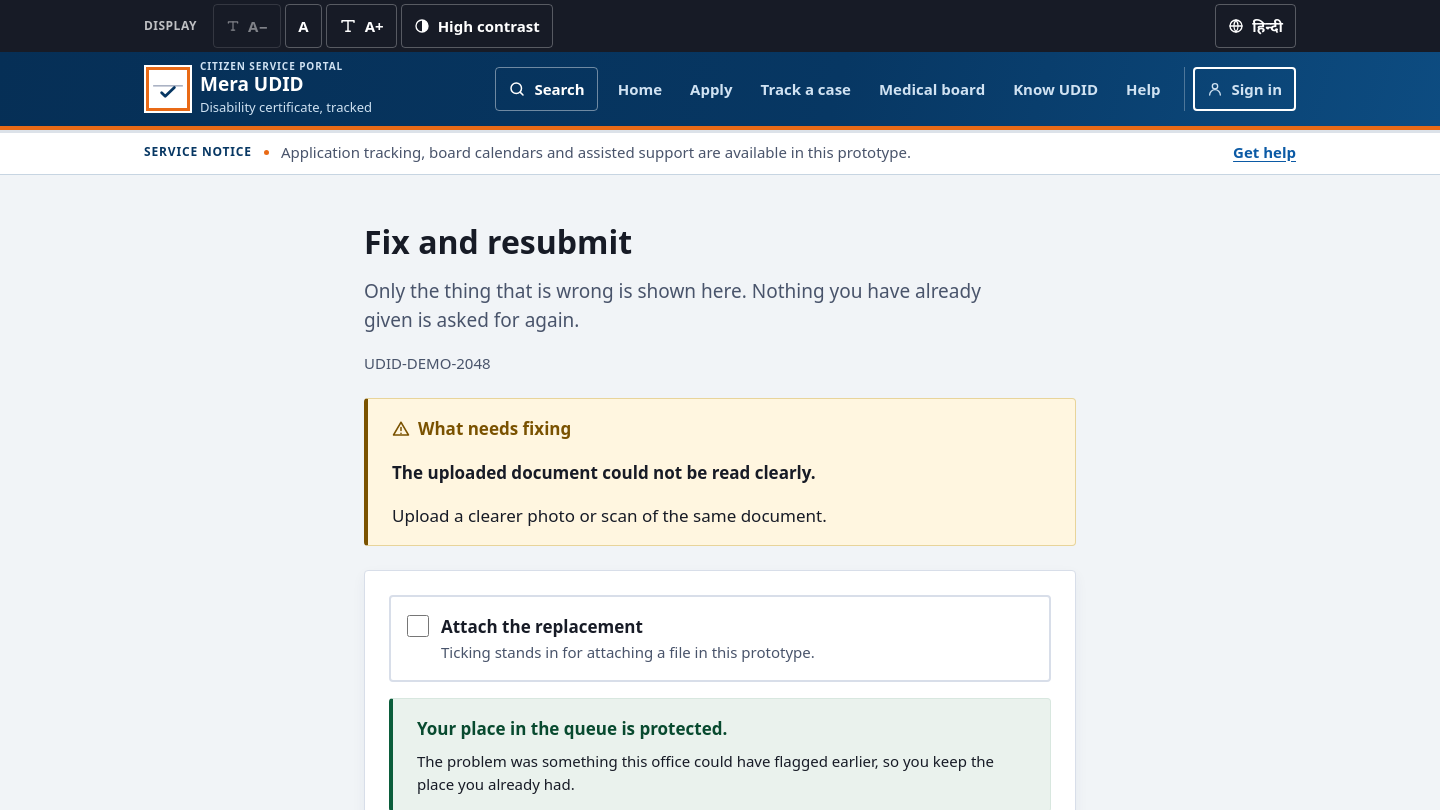
Scenario: fix and resubmit › sends the case back to the desk and keeps the queue place
Expected: the heading "Fix and resubmit" is shown, [364,220,632,263]
Click the checkbox at {"x": 418, "y": 626}, box [407,615,429,637]
(page scrolled)
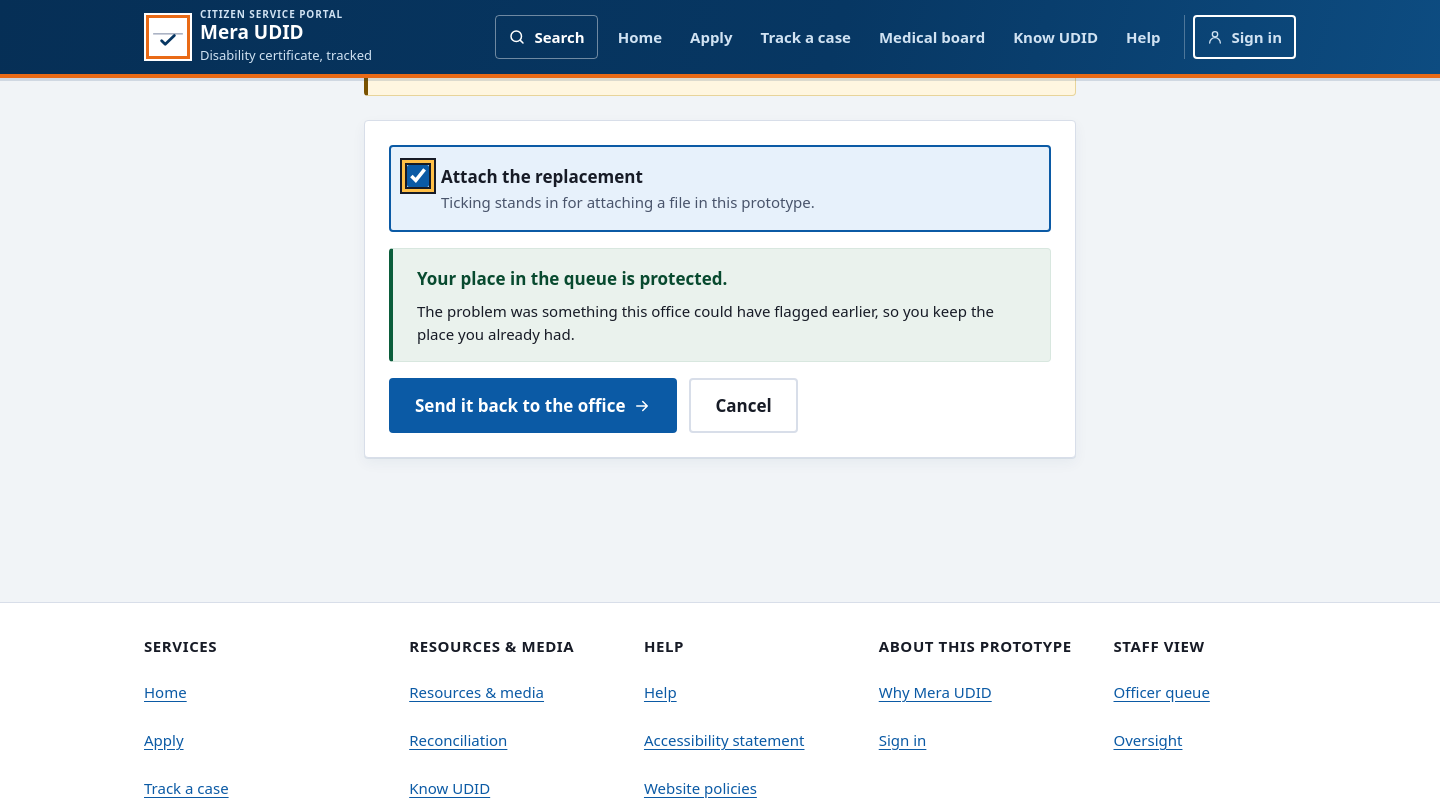
Expected: the button "Send it back to the office" is enabled
Click the button "Send it back to the office" at {"x": 533, "y": 406}, box [389,378,678,434]
(page scrolled)
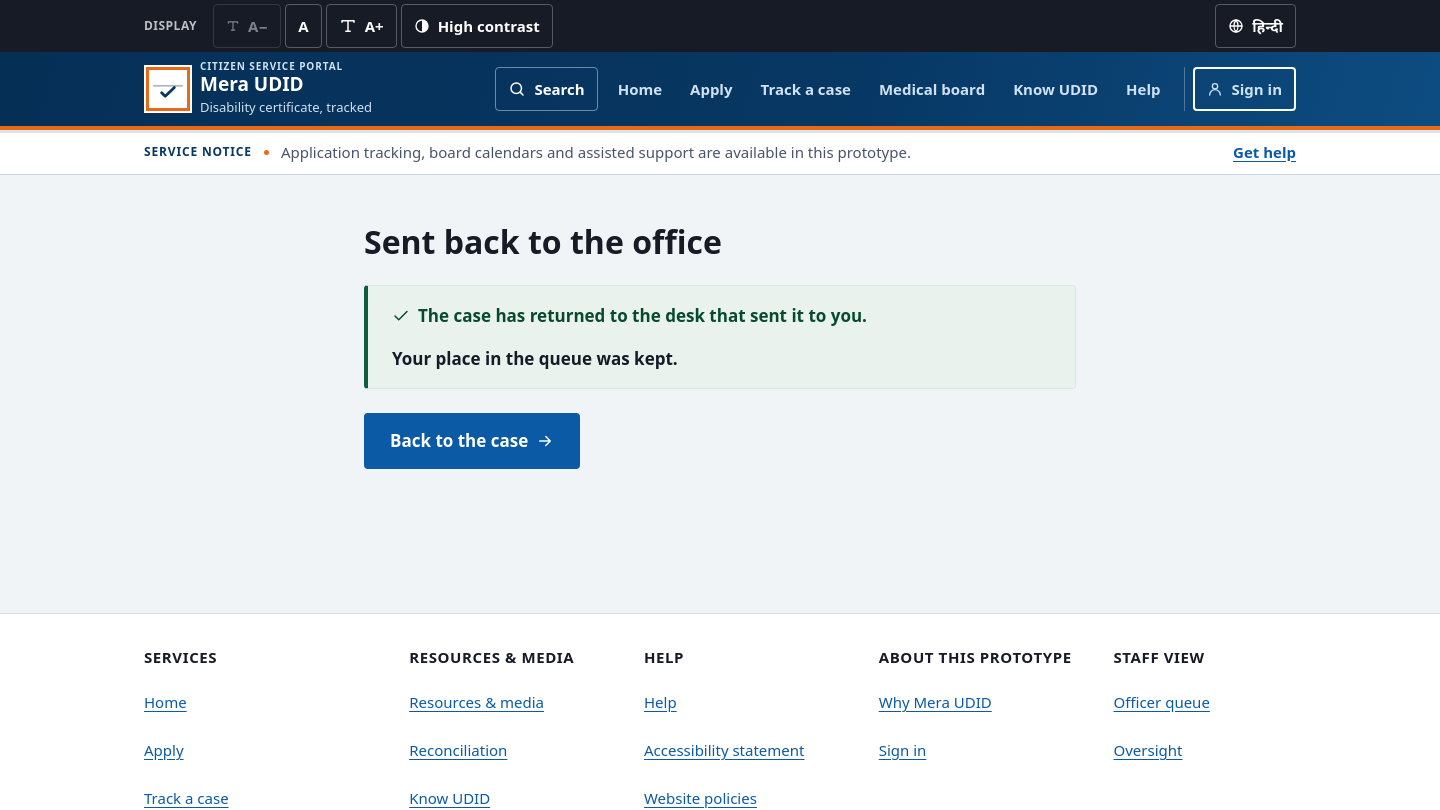
Expected: the heading "Sent back to the office" is shown, [364,220,722,263]
Expected: the text "Your place in the queue was kept." is shown, [392,347,678,370]
